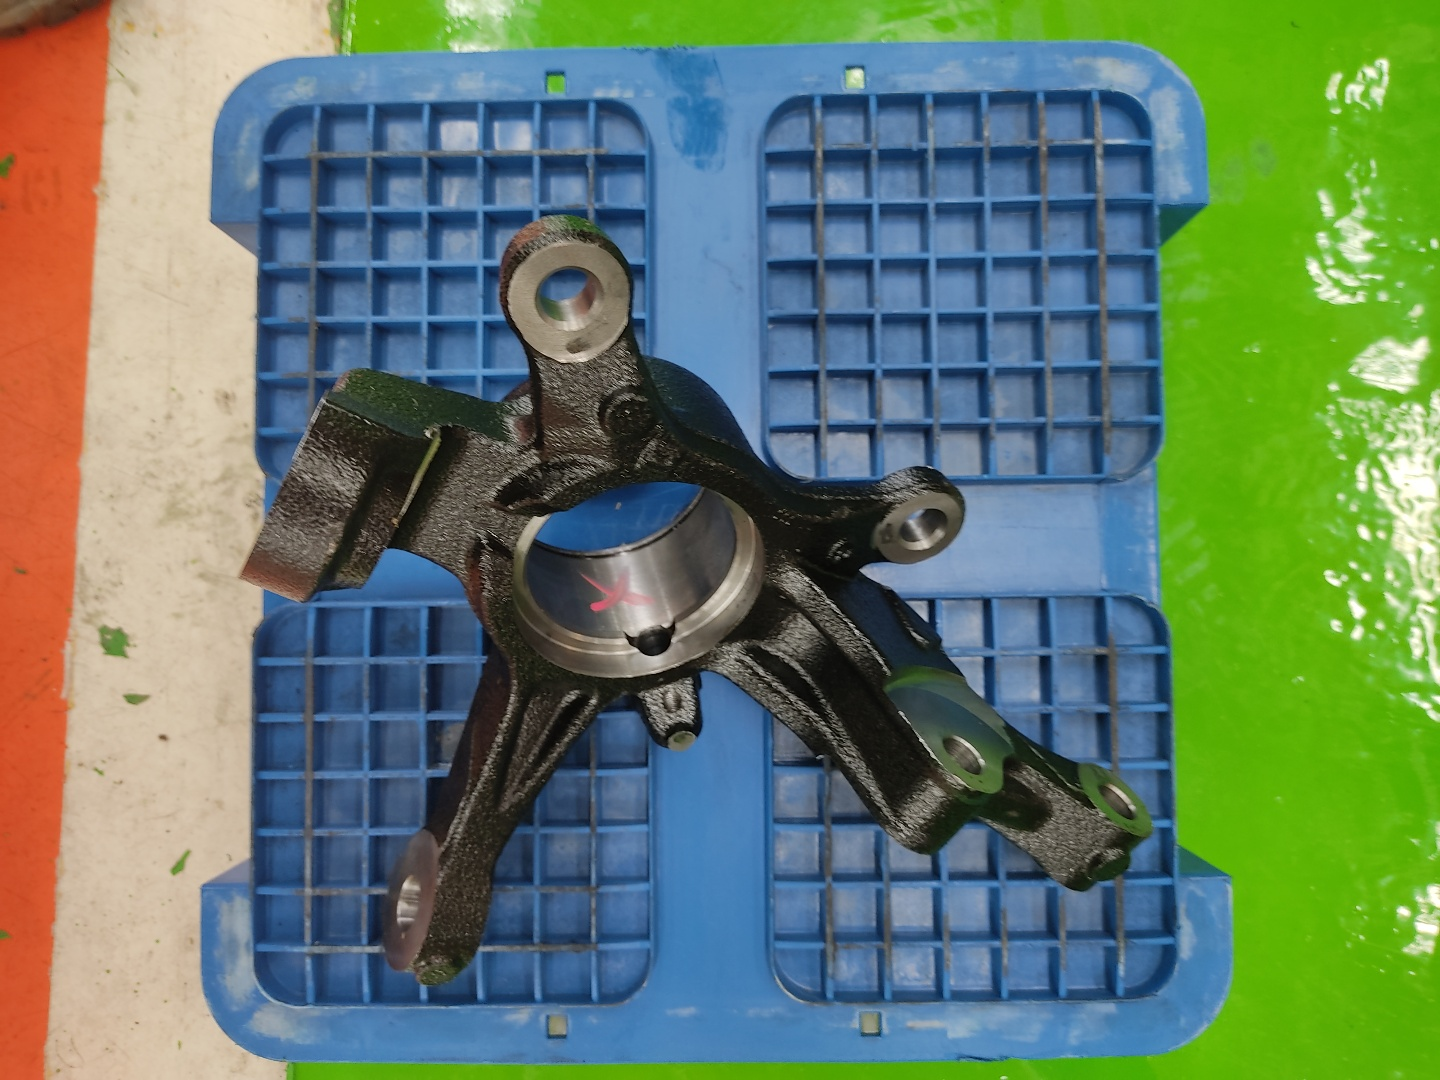abs-rh: (230, 206, 1168, 994)
